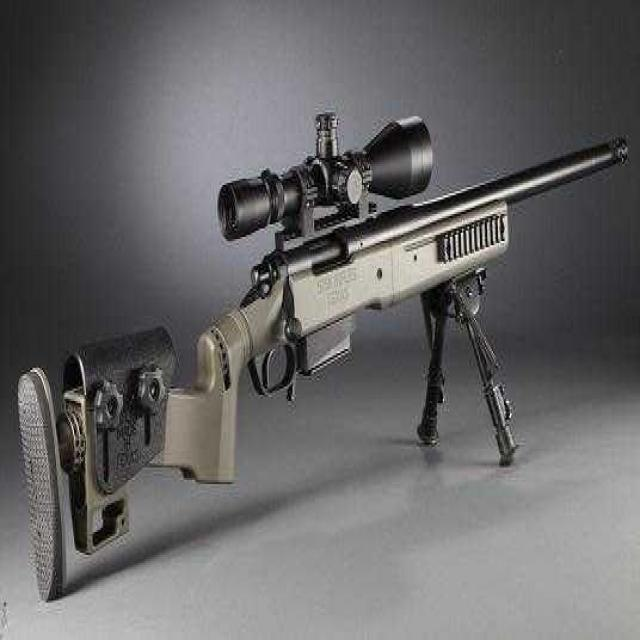weapon: (21, 56, 620, 588)
